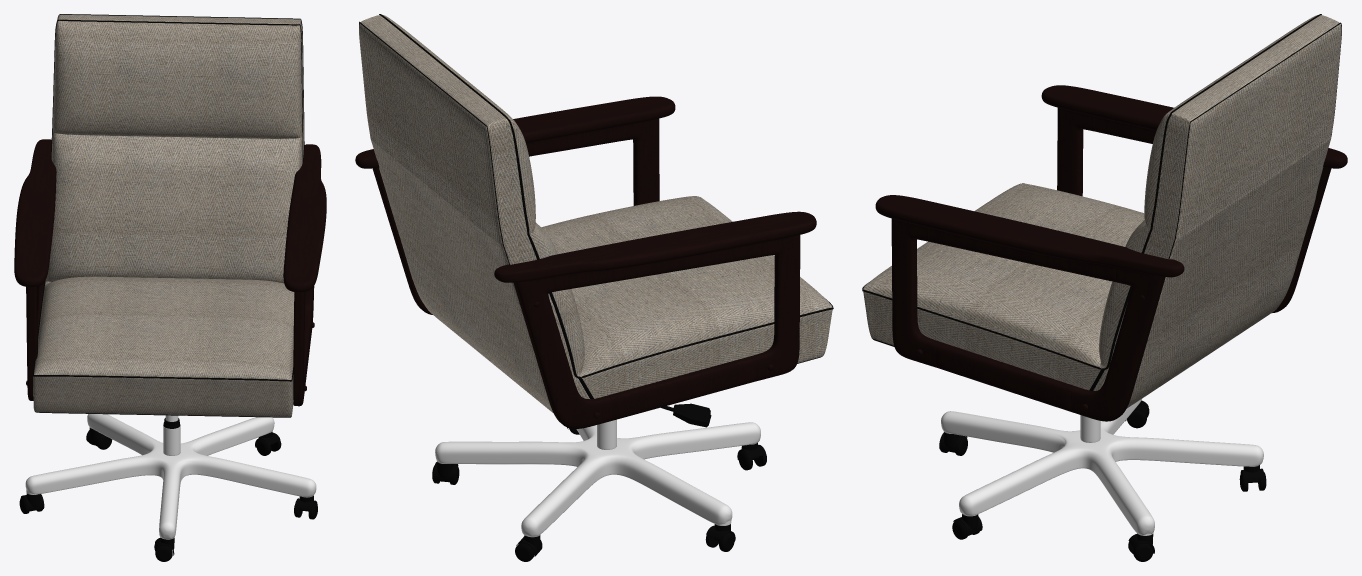
File: Blek-ExecutiveChair-Larforma.glb
3 views of the same model, side by side, from view 1: azimuth 30°, elevation 25°; view 2: azimuth 150°, elevation 25°; view 3: azimuth 270°, elevation 25° (orthographic). The views are drawn at different scales.
Visible parts, largest first — view 1: Seat, Swivel Base, Arms, Piping Back, Piping Seat; view 2: Seat, Arms, Swivel Base, Piping Back, Piping Seat; view 3: Seat, Arms, Swivel Base, Piping Back.
Boxes of the visible parts, x1,y1,x2,y2 form: Seat: [33, 14, 303, 417]; Swivel Base: [19, 414, 317, 561]; Arms: [14, 139, 326, 406]; Piping Back: [44, 14, 304, 282]; Piping Seat: [33, 283, 293, 381]; Seat: [359, 15, 832, 412]; Arms: [355, 96, 816, 428]; Swivel Base: [432, 403, 766, 561]; Piping Back: [359, 14, 593, 399]; Piping Seat: [582, 197, 833, 377]; Seat: [863, 15, 1341, 408]; Arms: [875, 85, 1347, 421]; Swivel Base: [939, 399, 1266, 561]; Piping Back: [1089, 14, 1341, 390].
Bounding box in the file's own units: 0.9367 × 1.04 × 0.9772.
Materials: 4 (2 with a texture image).
